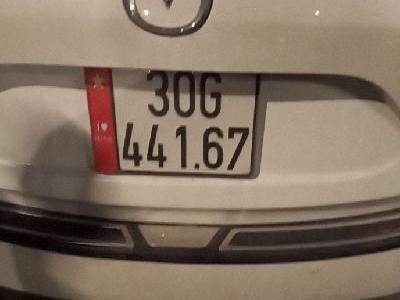car: (83, 66, 256, 178)
